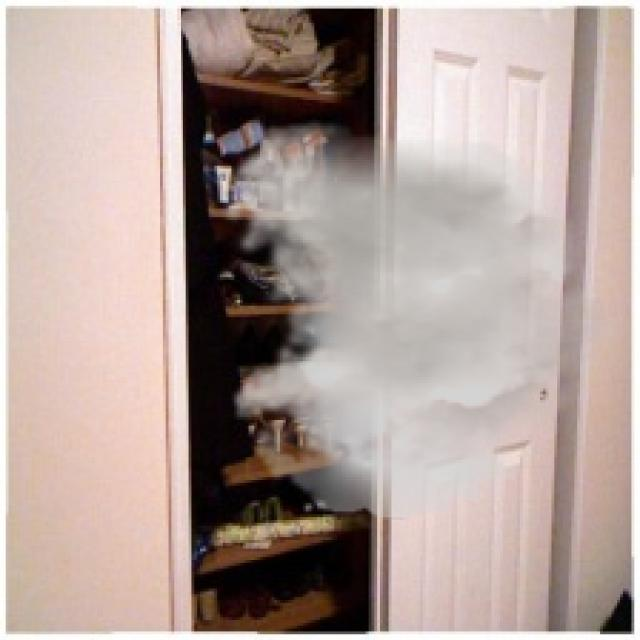Smoke: (217, 120, 632, 520)
